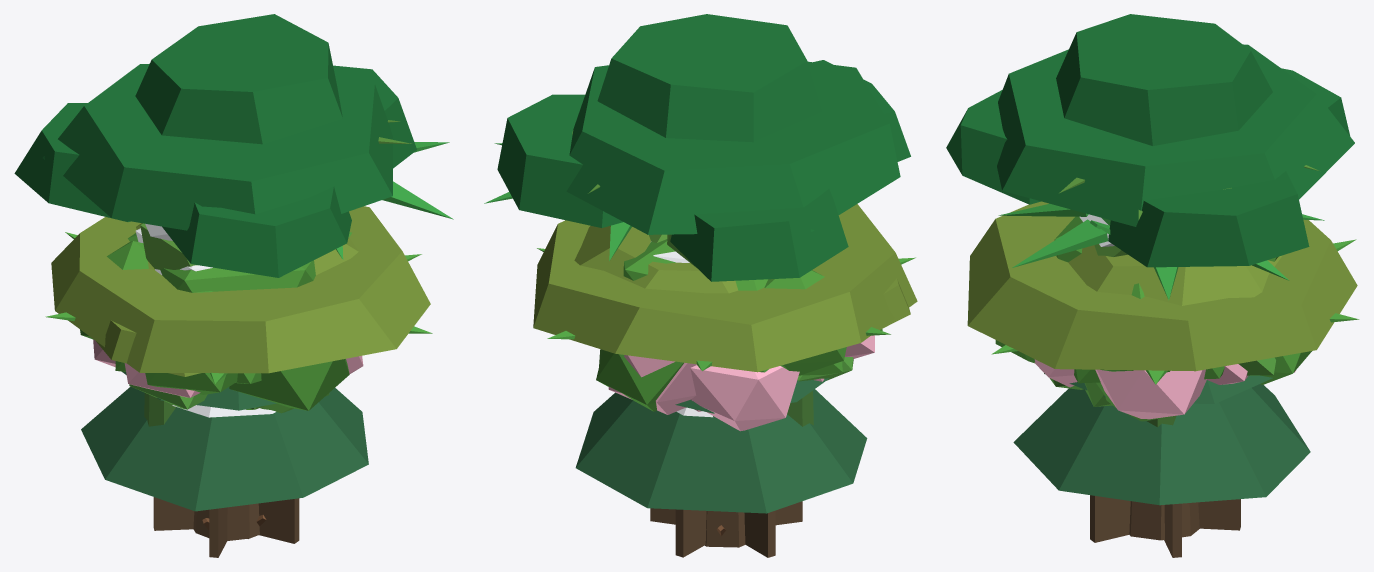
Rendered from trees.glb.
3 views of the same model, side by side, from view 1: azimuth 30°, elevation 25°; view 2: azimuth 150°, elevation 25°; view 3: azimuth 270°, elevation 25° (orthographic). The views are drawn at different scales.
Parts seen in each view (by area): view 1: tree_jungle_giant_foliage, tree_acacia_foliage, tree_pine_foliage, tree_oak_foliage, tree_jungle_giant_trunk, tree_birch_foliage, tree_cherry_foliage, tree_palm_foliage, tree_apple_foliage, tree_cactus_trunk, tree_pine_snow; view 2: tree_jungle_giant_foliage, tree_acacia_foliage, tree_pine_foliage, tree_cherry_foliage, tree_oak_foliage, tree_jungle_giant_trunk, tree_cactus_trunk, tree_palm_foliage; view 3: tree_jungle_giant_foliage, tree_acacia_foliage, tree_pine_foliage, tree_jungle_giant_trunk, tree_cherry_foliage, tree_palm_foliage, tree_oak_foliage, tree_apple_foliage, tree_banana_foliage.
Boxes of the visible parts, x1,y1,x2,y2 form: tree_jungle_giant_foliage: [14, 14, 416, 277]; tree_acacia_foliage: [51, 206, 430, 376]; tree_pine_foliage: [81, 371, 368, 511]; tree_oak_foliage: [80, 232, 351, 410]; tree_jungle_giant_trunk: [153, 497, 299, 557]; tree_birch_foliage: [140, 223, 197, 269]; tree_cherry_foliage: [93, 339, 363, 397]; tree_palm_foliage: [336, 142, 453, 259]; tree_apple_foliage: [129, 384, 329, 413]; tree_cactus_trunk: [144, 393, 175, 426]; tree_pine_snow: [172, 405, 275, 417]; tree_jungle_giant_foliage: [497, 14, 910, 281]; tree_acacia_foliage: [533, 204, 917, 372]; tree_pine_foliage: [575, 378, 867, 513]; tree_cherry_foliage: [608, 335, 874, 431]; tree_oak_foliage: [596, 239, 882, 411]; tree_jungle_giant_trunk: [650, 501, 802, 557]; tree_cactus_trunk: [787, 390, 813, 426]; tree_palm_foliage: [484, 143, 631, 260]; tree_jungle_giant_foliage: [946, 14, 1354, 267]; tree_acacia_foliage: [967, 201, 1357, 371]; tree_pine_foliage: [1013, 373, 1310, 505]; tree_jungle_giant_trunk: [1090, 495, 1240, 557]; tree_cherry_foliage: [1034, 359, 1295, 419]; tree_palm_foliage: [998, 203, 1324, 300]; tree_oak_foliage: [995, 216, 1311, 384]; tree_apple_foliage: [1049, 357, 1276, 421]; tree_banana_foliage: [991, 239, 1359, 384].
Size of the model in its own units: 2.92 by 3.35 by 2.55.
